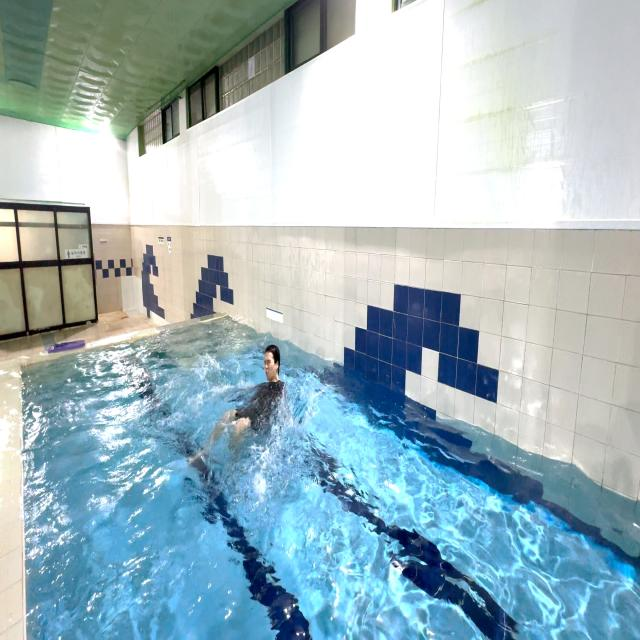Swimming: (197, 331, 312, 443)
